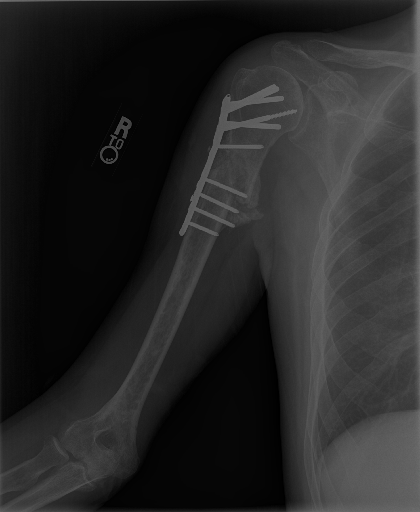implant: (180, 82, 288, 237)
